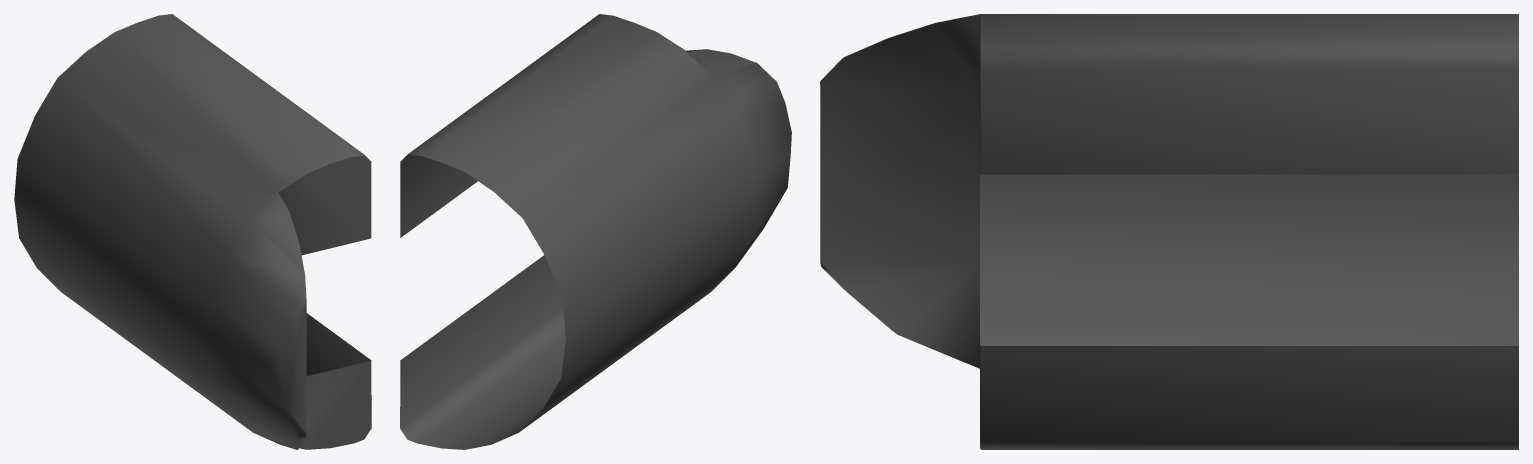
The model's file is body_light.obj.
3 renders of one model, left to right at view 1: azimuth 30°, elevation 25°; view 2: azimuth 150°, elevation 25°; view 3: azimuth 270°, elevation 25°, orthographic. The views are drawn at different scales.
Visible parts, largest first — view 1: SM_Base_007; view 2: SM_Base_007; view 3: SM_Base_007.
Part boxes in pixels (x1,y1,x2,y2): SM_Base_007: (14, 14, 371, 449); SM_Base_007: (400, 14, 791, 449); SM_Base_007: (820, 14, 1518, 449).
Size of the model in its own units: 0.2173 by 0.3615 by 0.5659.
Materials: 1 (1 with a texture image).
